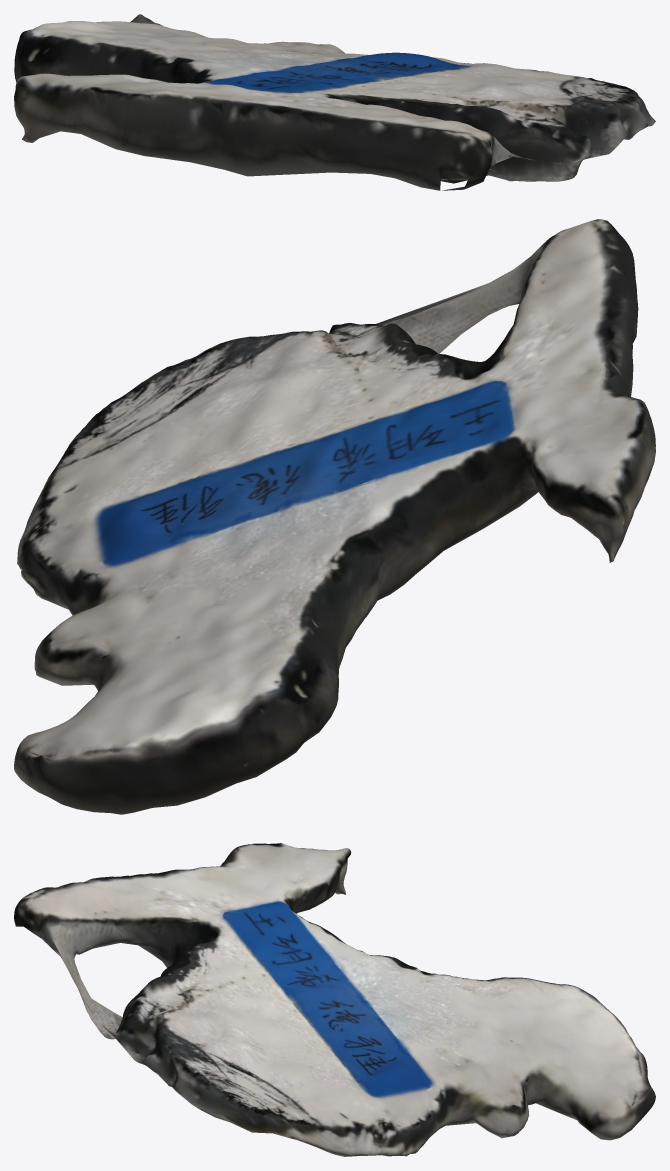
The picture shows the model from 3 angles, top to bottom: view 1: azimuth 30°, elevation 25°; view 2: azimuth 150°, elevation 25°; view 3: azimuth 270°, elevation 25°; orthographic projection. The views are drawn at different scales.
Bounding box in the file's own units: 0.509 × 0.2415 × 0.6901.
Materials: 1 (1 with a texture image).
